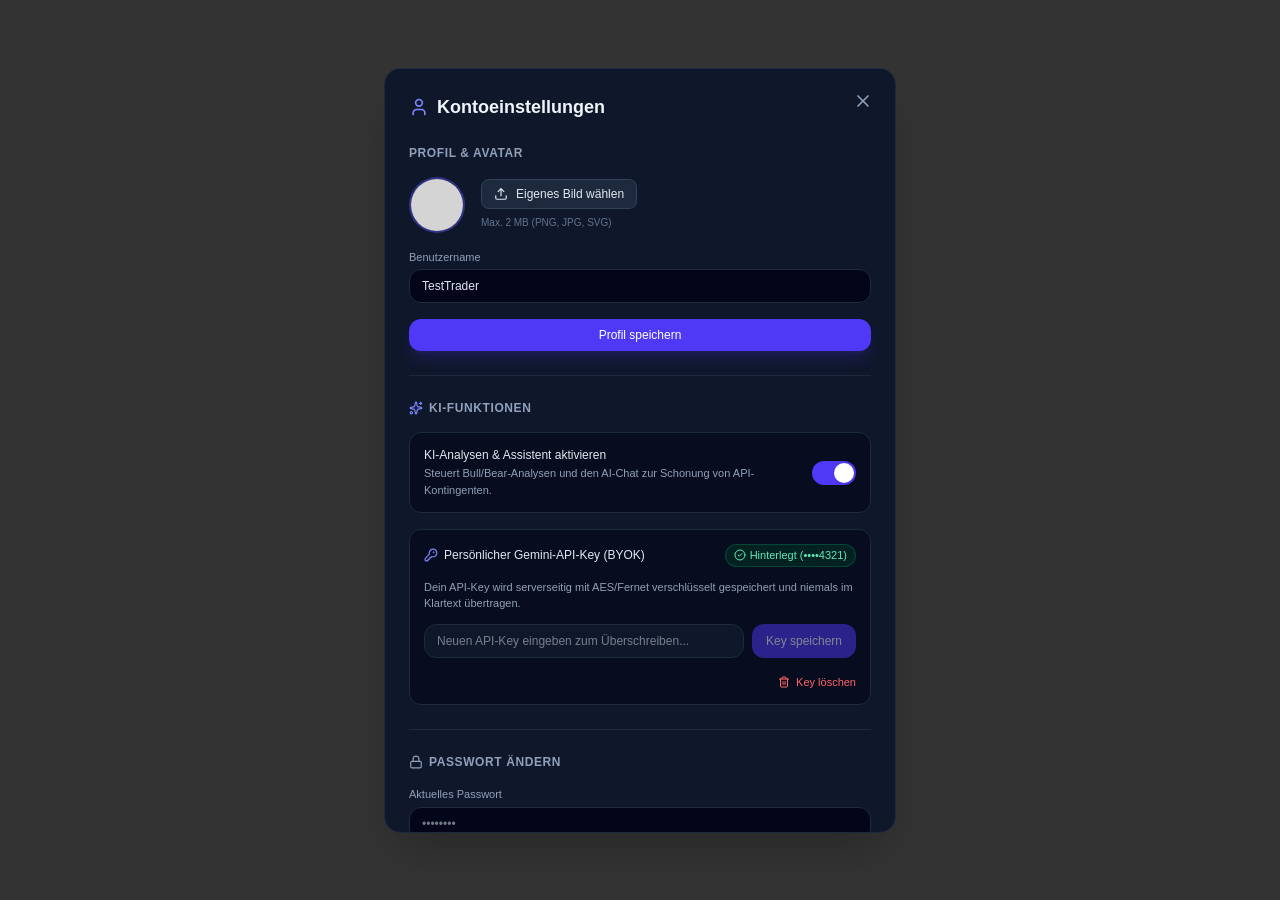
Test case: SettingsModal Component (AI Toggle & BYOK) › ermöglicht das Löschen eines bereits hinterlegten API-Keys
Check: the text "Hinterlegt (••••4321)" is shown, box 725,544 -> 856,566
Click the button "Key löschen": (817, 682) 778,674 -> 856,690
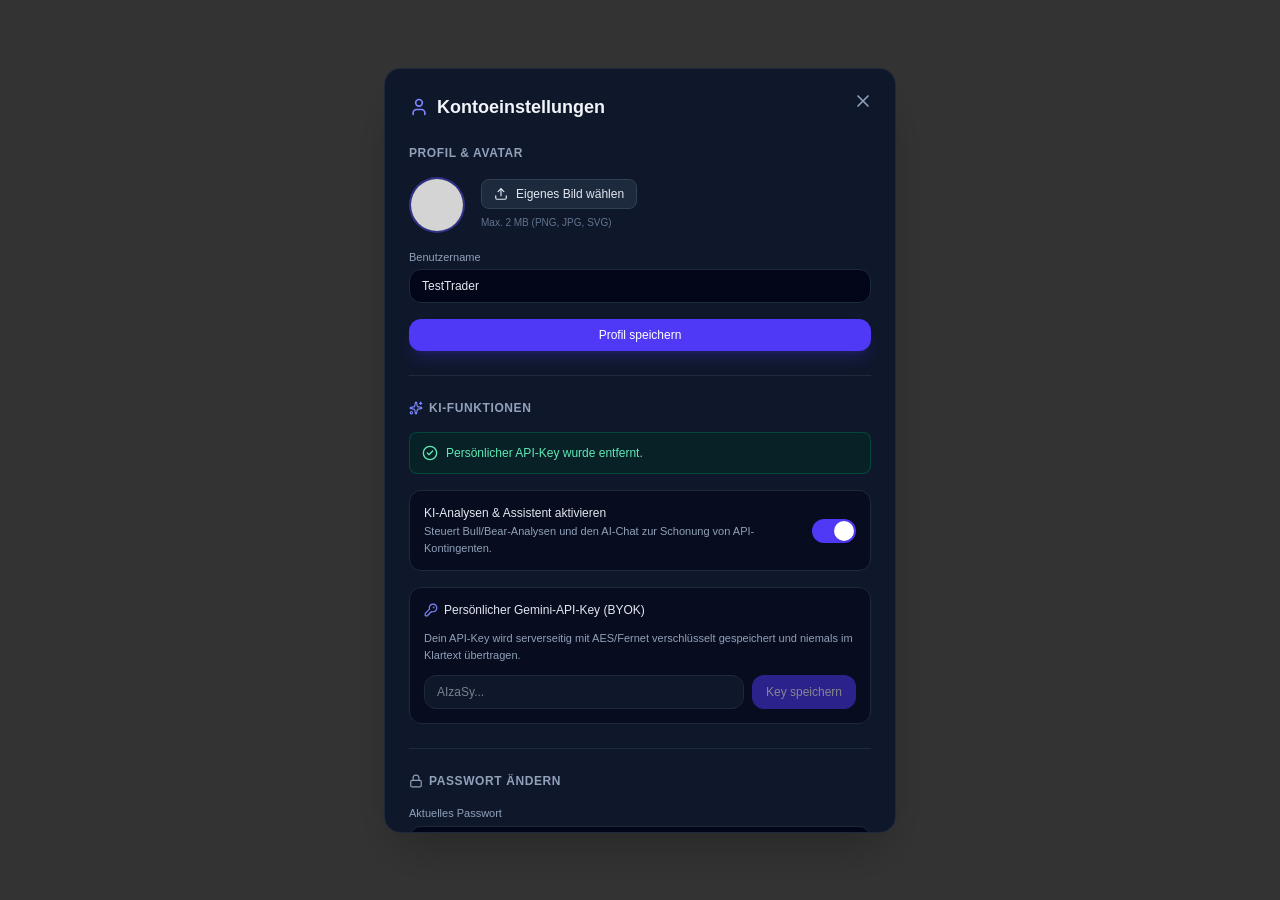
Check: the text "Hinterlegt (••••4321)" is gone
Check: the text "Persönlicher API-Key wurde entfernt." is shown, box 446,445 -> 643,461
